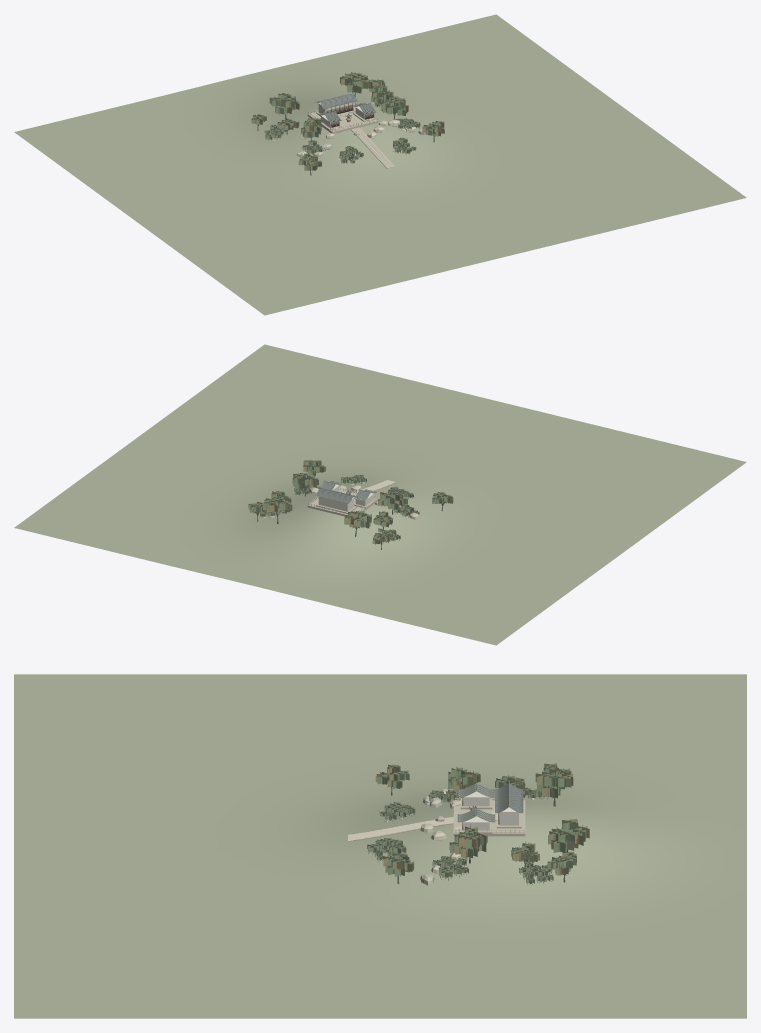
File: jade-emperor.glb
3 renders of one model, top to bottom at view 1: azimuth 30°, elevation 25°; view 2: azimuth 150°, elevation 25°; view 3: azimuth 270°, elevation 25°, orthographic. The views are drawn at different scales.
Visible parts, largest first — view 1: earth, crown1, crown2, crown0, stone, stoneedge, ridge, roof; view 2: earth, crown1, crown2, crown0, stone, roof, plaster; view 3: earth, crown1, crown0, crown2, stone, ridge, stoneedge, plaster, roof.
Part boxes in pixels (left/top/right/bottom): earth: left=14, top=14, right=746, bottom=315; crown1: left=252, top=74, right=441, bottom=170; crown2: left=251, top=73, right=444, bottom=171; crown0: left=253, top=72, right=444, bottom=170; stone: left=281, top=102, right=416, bottom=160; stoneedge: left=308, top=102, right=395, bottom=168; ridge: left=315, top=92, right=375, bottom=123; roof: left=315, top=93, right=375, bottom=122; earth: left=14, top=344, right=746, bottom=645; crown1: left=248, top=460, right=453, bottom=544; crown2: left=249, top=459, right=453, bottom=542; crown0: left=249, top=460, right=452, bottom=544; stone: left=272, top=484, right=419, bottom=535; roof: left=315, top=481, right=376, bottom=503; plaster: left=318, top=484, right=374, bottom=511; earth: left=14, top=674, right=746, bottom=1018; crown1: left=367, top=763, right=581, bottom=883; crown0: left=377, top=764, right=586, bottom=875; crown2: left=375, top=764, right=589, bottom=875; stone: left=420, top=789, right=542, bottom=874; ridge: left=457, top=781, right=522, bottom=822; stoneedge: left=348, top=797, right=524, bottom=841; plaster: left=463, top=791, right=518, bottom=831; roof: left=459, top=783, right=523, bottom=821.
Size of the model in its own units: 250 by 17.93 by 225.
